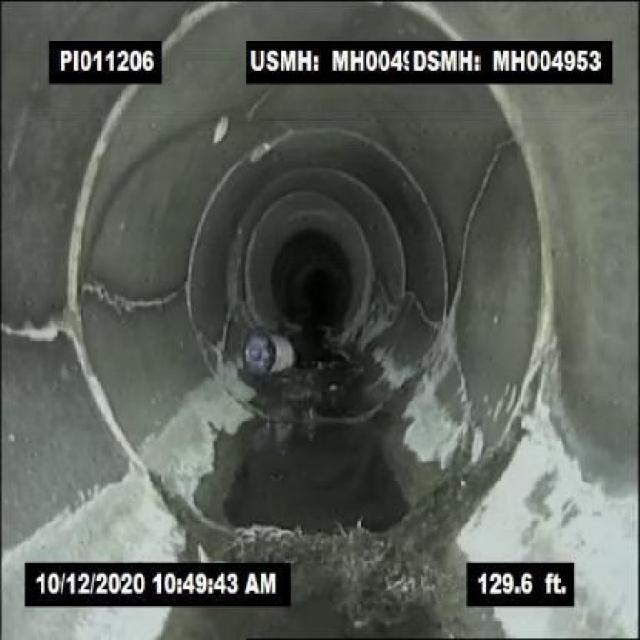Crack: (455, 145, 503, 317), (80, 277, 185, 312), (454, 343, 486, 457), (0, 316, 66, 344), (246, 86, 282, 123)
